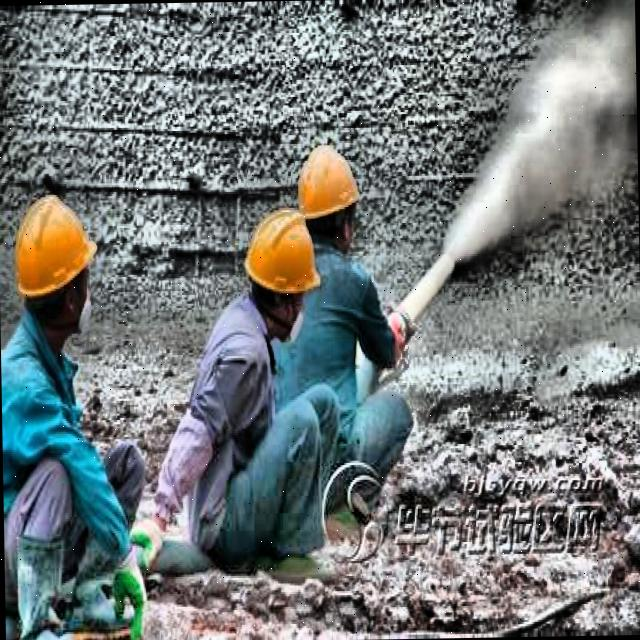helmet: (4, 181, 104, 349), (241, 196, 333, 330), (290, 136, 366, 265)
